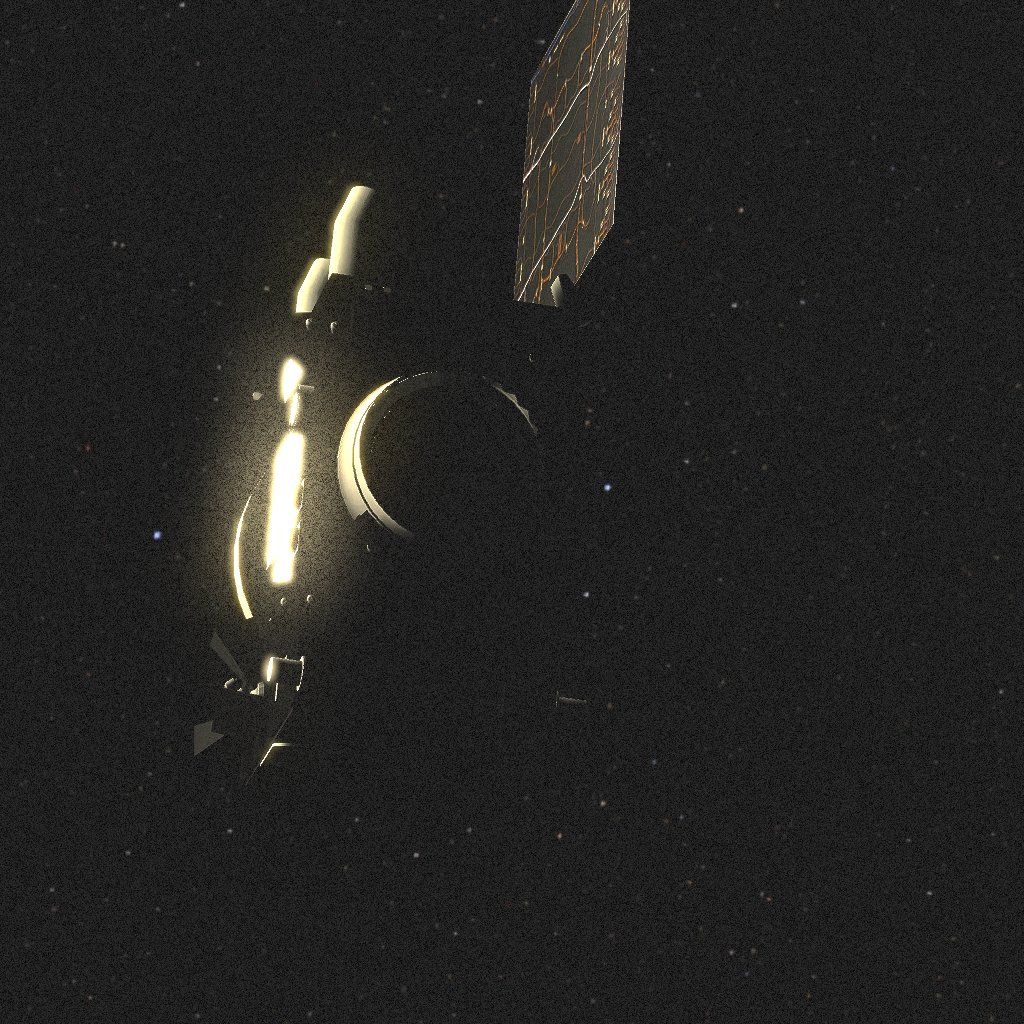proba_3_csc: (194, 0, 636, 826)
